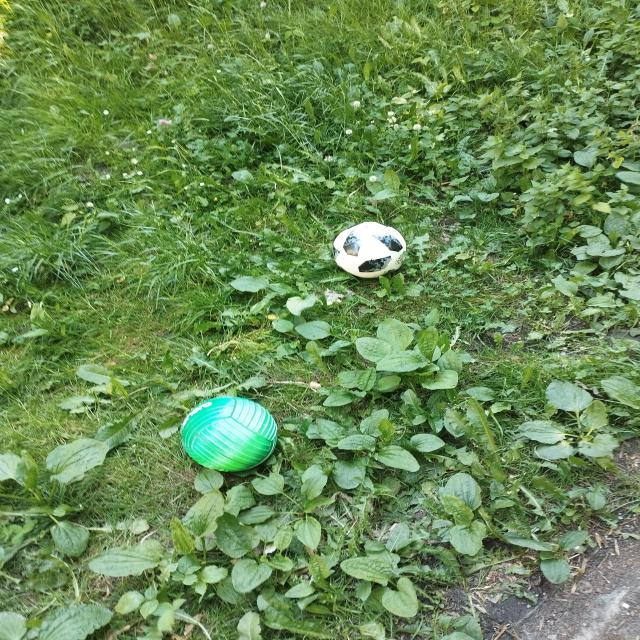nozna: (333, 222, 406, 279)
zielona: (181, 396, 278, 472)
